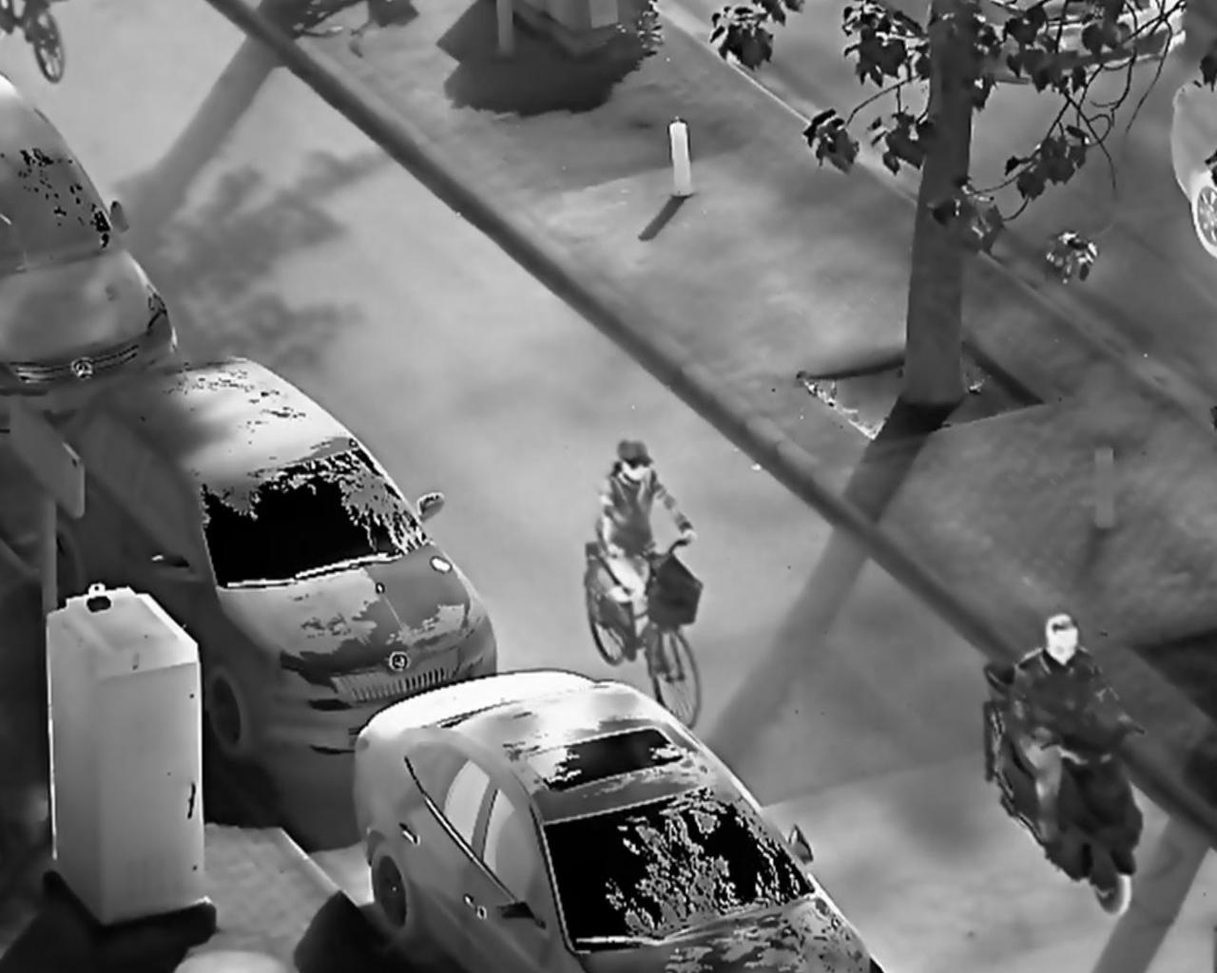person: (1007, 609, 1132, 846), (596, 436, 700, 657)
